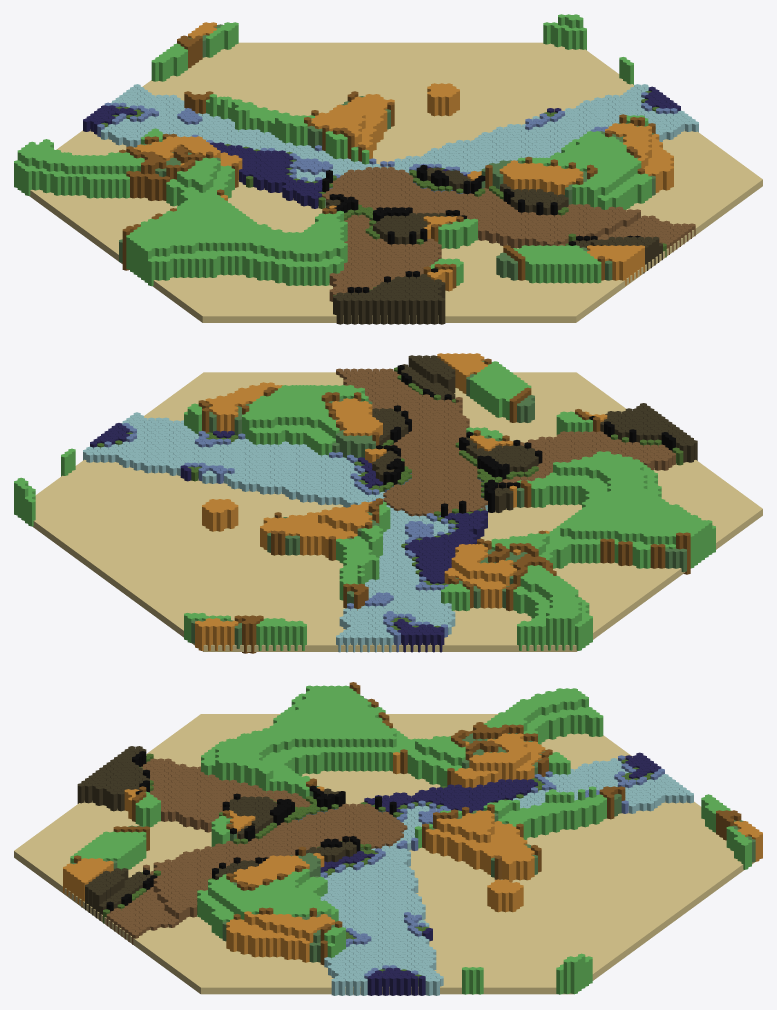
Rendered from 0031_tile_1120201.fbx.
3 renders of one model, top to bottom at view 1: azimuth 30°, elevation 25°; view 2: azimuth 150°, elevation 25°; view 3: azimuth 270°, elevation 25°, orthographic.
Visible parts, largest first — view 1: Plane; view 2: Plane; view 3: Plane.
Boxes of the visible parts, x1,y1,x2,y2 form: Plane: [14, 14, 762, 324]; Plane: [14, 353, 762, 653]; Plane: [14, 682, 762, 995].
Size of the model in its own units: 1008 by 65.9 by 1152.
